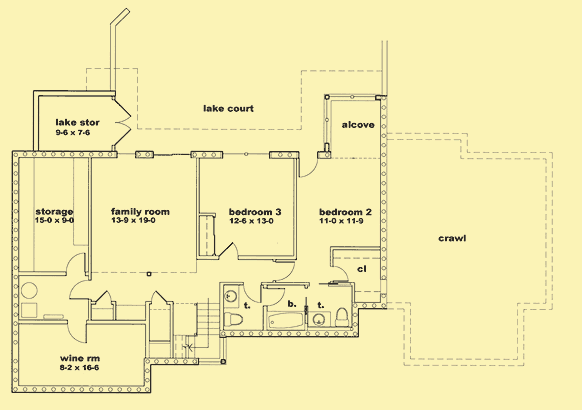door: (66, 319, 90, 346), (65, 251, 88, 276), (218, 241, 240, 260)
